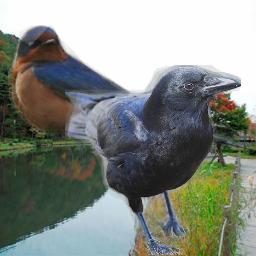Crow: (65, 65, 241, 255)
Swallow: (8, 25, 255, 152)
